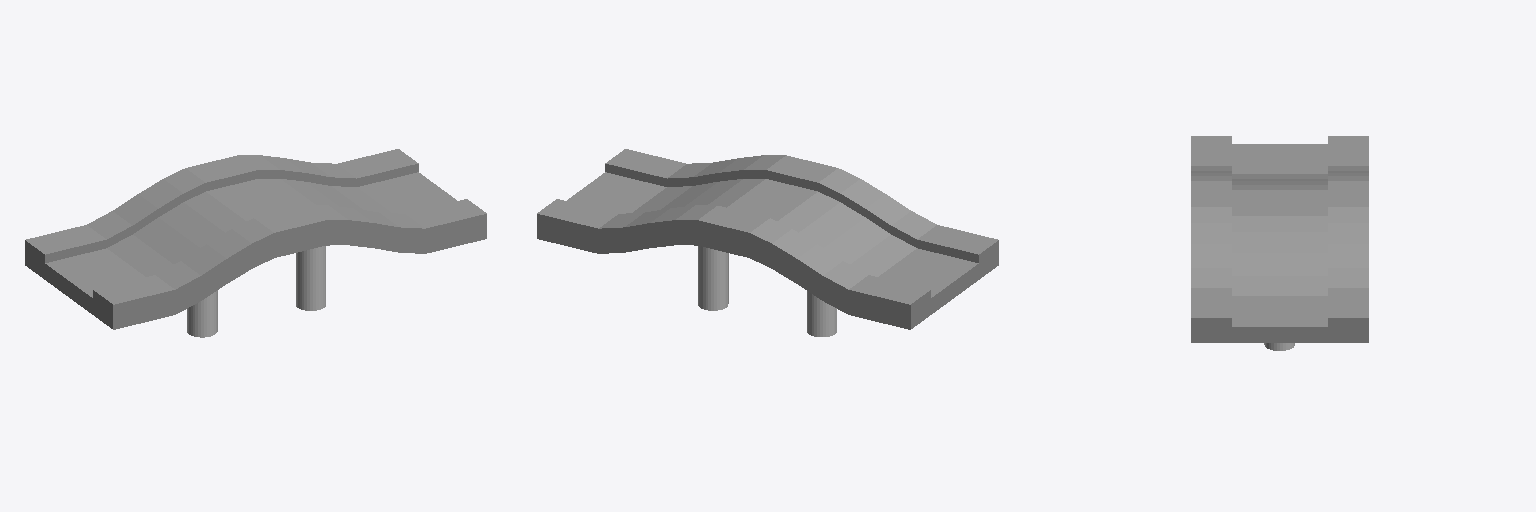
Rendered from bridge.obj.
3 views of the same model, side by side, from view 1: azimuth 30°, elevation 25°; view 2: azimuth 150°, elevation 25°; view 3: azimuth 270°, elevation 25° (orthographic).
Parts seen in each view (by area): view 1: Pavement_Cube.001, Bridge_Cube, Post_2_Cylinder.002, Post_1_Cylinder; view 2: Pavement_Cube.001, Bridge_Cube, Post_2_Cylinder.002, Post_1_Cylinder; view 3: Bridge_Cube, Pavement_Cube.001.
Boxes of the visible parts, x1,y1,x2,y2 form: Pavement_Cube.001: [25, 149, 486, 329]; Bridge_Cube: [36, 172, 456, 320]; Post_2_Cylinder.002: [296, 246, 325, 310]; Post_1_Cylinder: [187, 290, 217, 337]; Pavement_Cube.001: [537, 149, 998, 329]; Bridge_Cube: [567, 172, 987, 320]; Post_2_Cylinder.002: [698, 246, 728, 310]; Post_1_Cylinder: [807, 291, 836, 336]; Bridge_Cube: [1215, 144, 1344, 342]; Pavement_Cube.001: [1191, 136, 1368, 342].
Bounding box in the file's own units: 17.99 × 5.69 × 7.39.